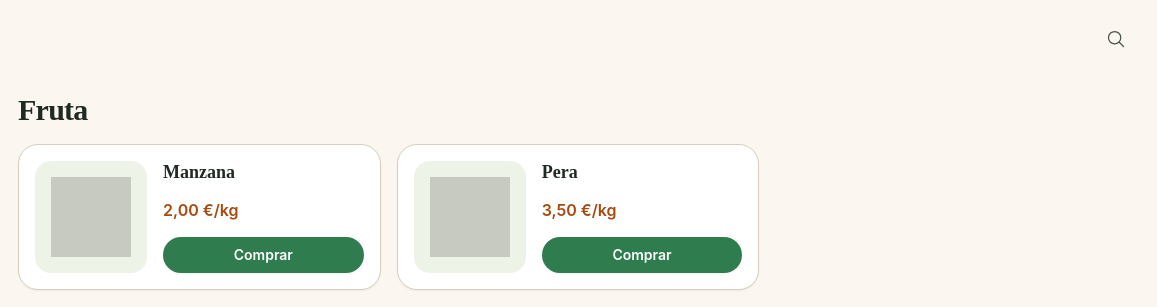
ProductsScreen › filters the products with the search box
Expected: the link "Manzana" is shown, [163, 162, 235, 182]
Step 1. Click the button named "Buscar" → [1116, 39], box [1098, 21, 1134, 57]
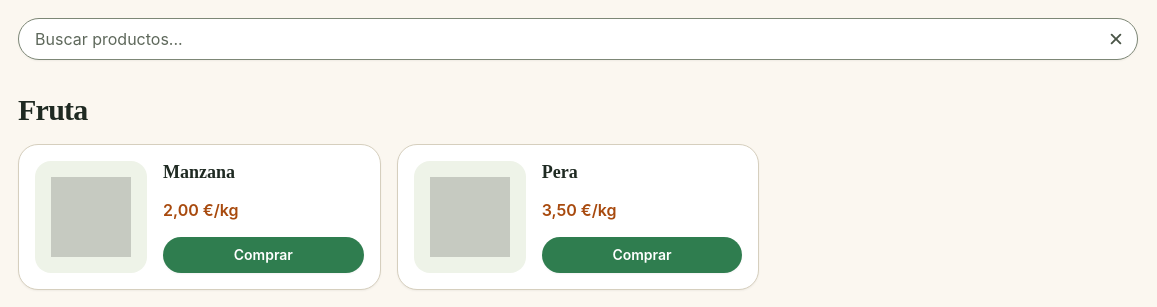
Step 2. Type "per" into the field → [578, 39], box [18, 18, 1138, 60]
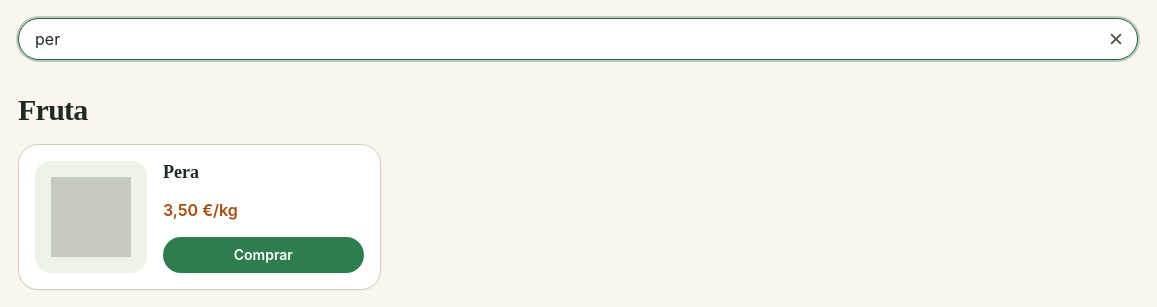
Expected: the link "Pera" is shown, [163, 162, 199, 182]
Now the link "Manzana" is gone
